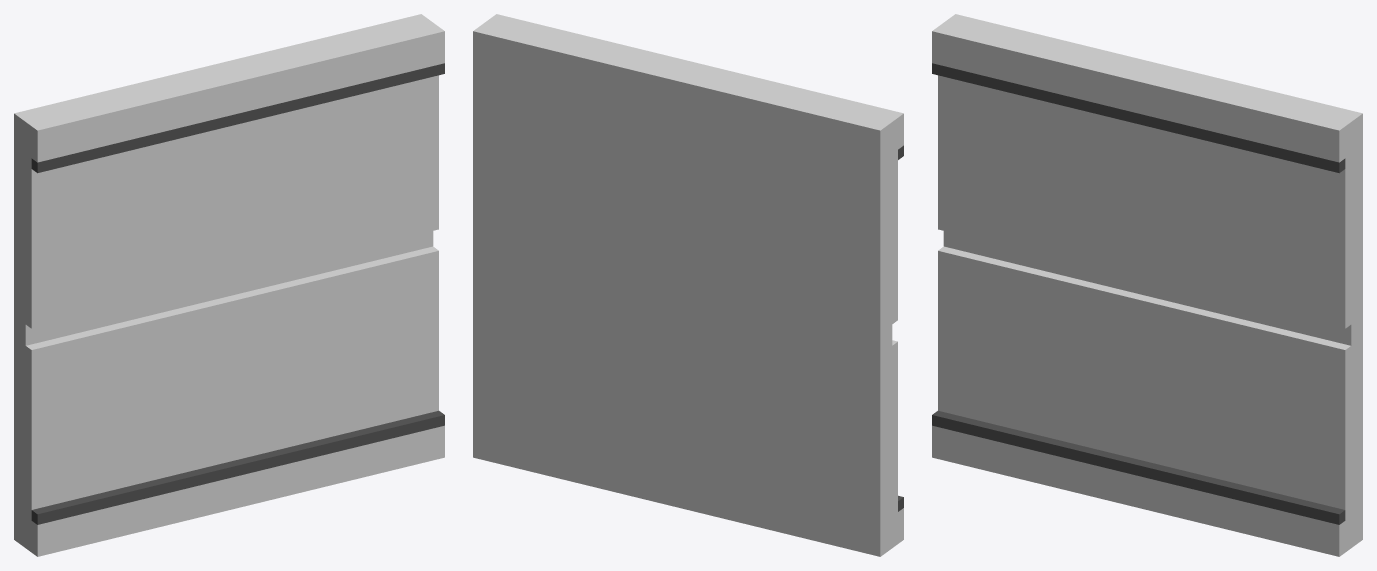
File: wall.vox.obj
3 renders of one model, left to right at view 1: azimuth 30°, elevation 25°; view 2: azimuth 150°, elevation 25°; view 3: azimuth 330°, elevation 25°, orthographic.
Bounding box in the file's own units: 4 × 4 × 0.4.
Materials: 1 (1 with a texture image).
